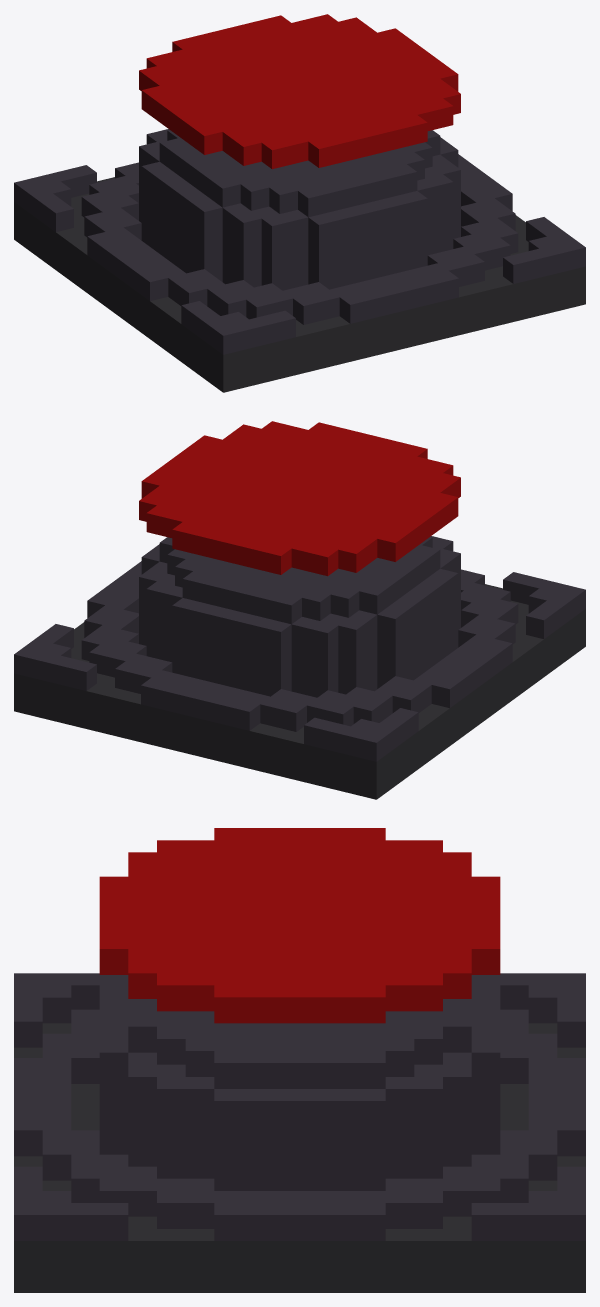
The model's file is Button.obj.
3 views of the same model, one above another, from view 1: azimuth 30°, elevation 25°; view 2: azimuth 150°, elevation 25°; view 3: azimuth 270°, elevation 25° (orthographic). The views are drawn at different scales.
Size of the model in its own units: 2 by 1 by 2.
Materials: 1 (1 with a texture image).
